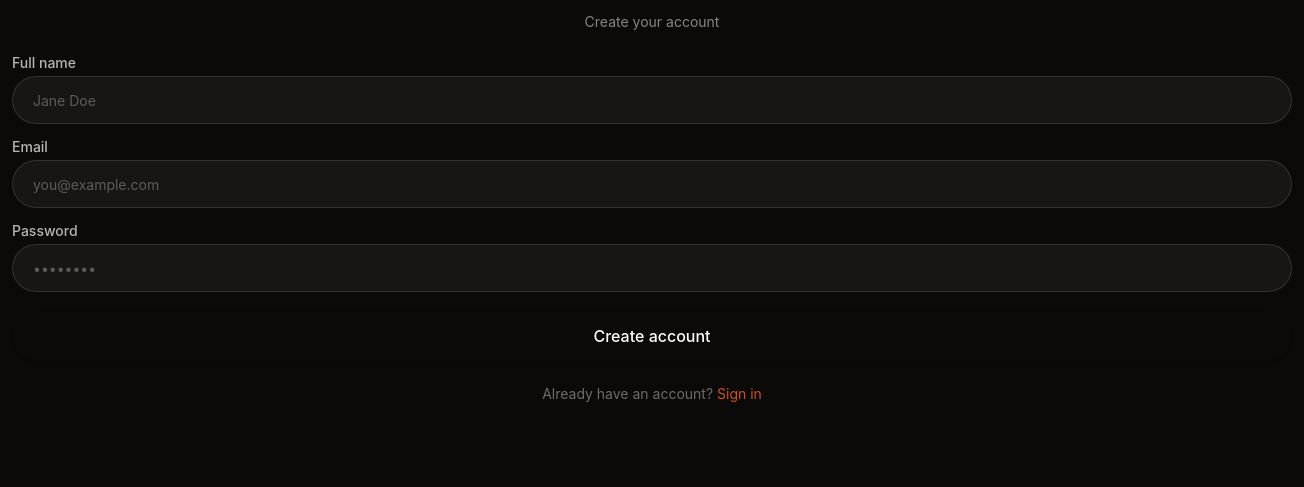
Scenario: RegisterPage › shows a generic error banner for unexpected (non-AuthClientError) errors
In the field labelled "Full name": (652, 100) [12,76,1292,124], type "Jane"
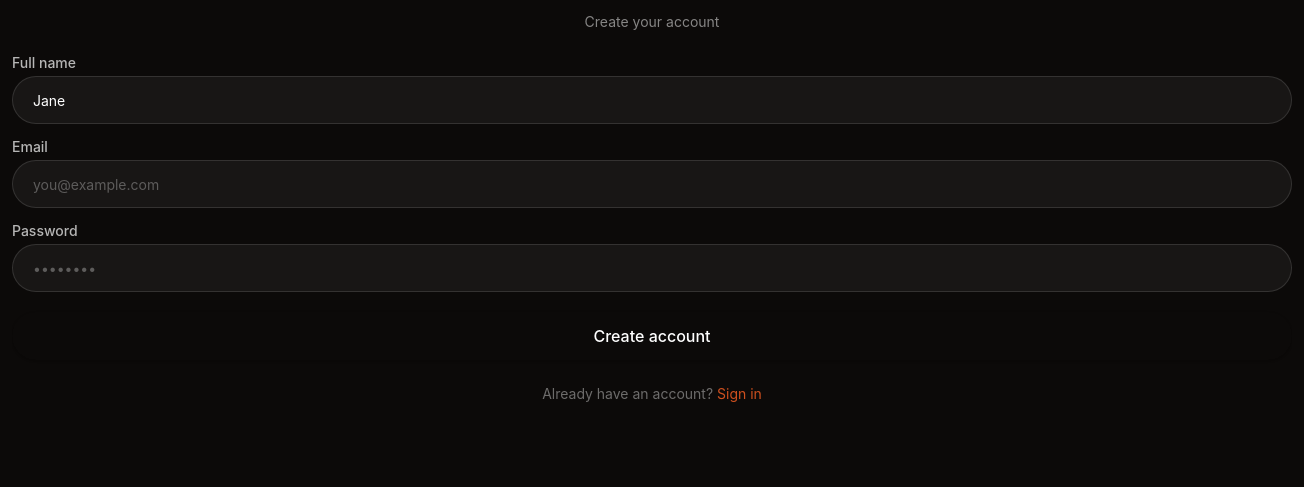
In the field labelled "Email": (652, 184) [12,160,1292,208], type "jane@example.com"
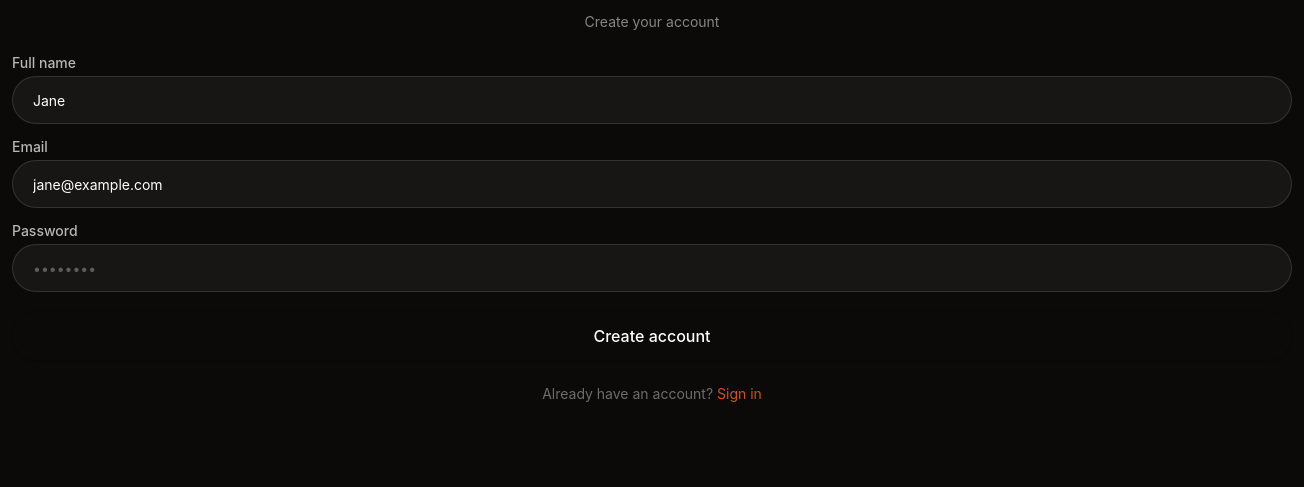
In the password field labelled "Password": (652, 268) [12,244,1292,292], type "secret"
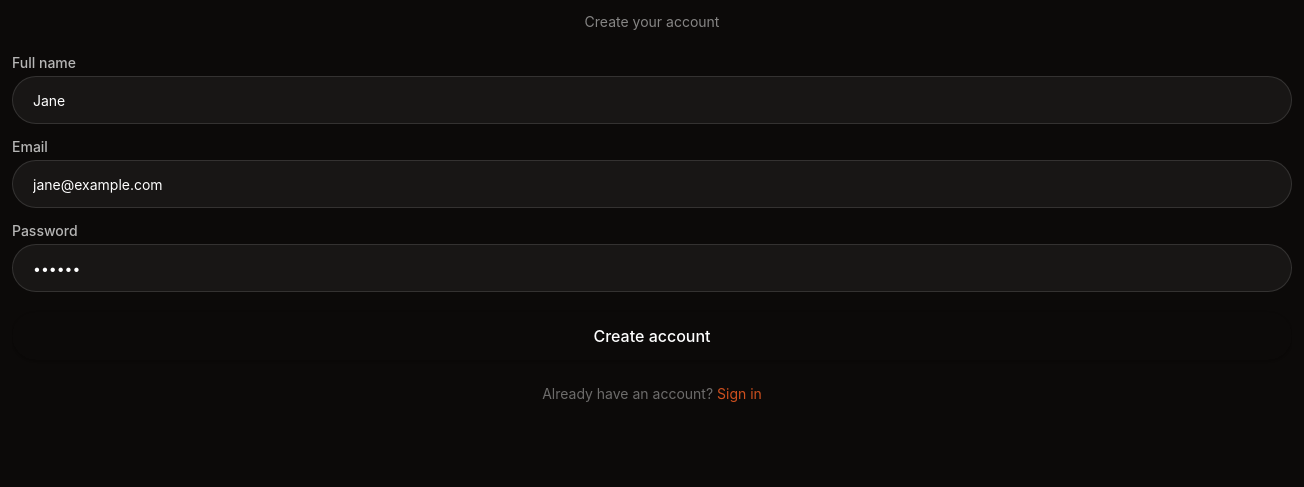
Click the button "Create account": (652, 336) [12,312,1292,360]
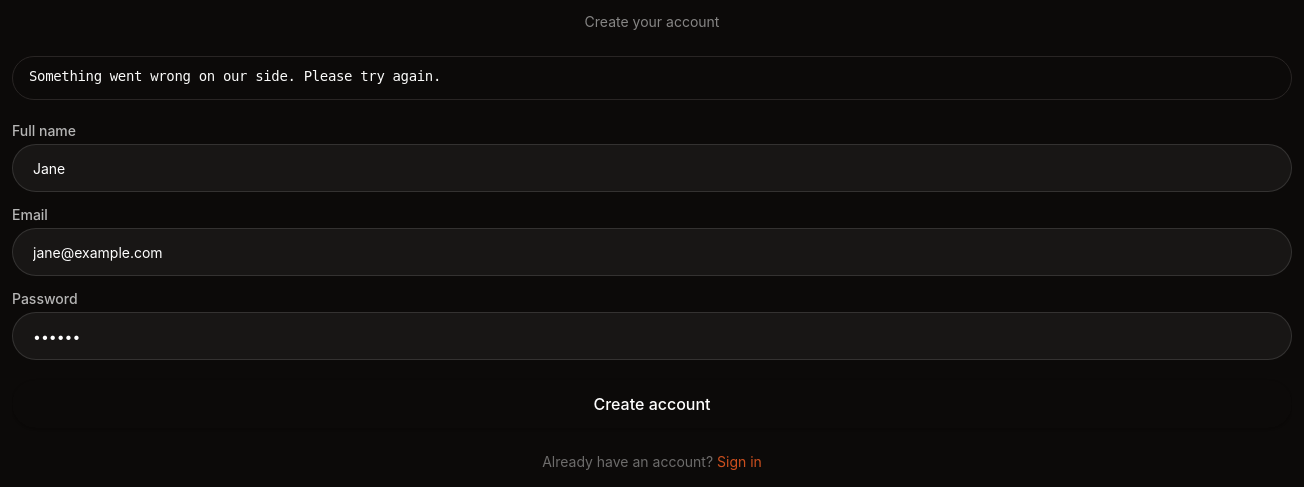
Check: the heading "Something went wrong on our side. Please try again." is shown, box [29,68,441,84]
